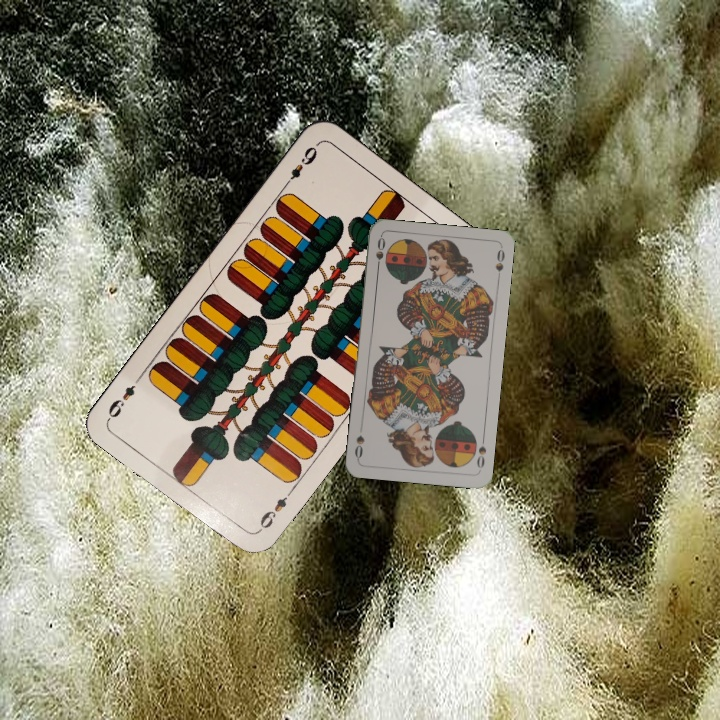E9: (254, 485, 296, 535), (279, 142, 320, 190)
SO: (372, 233, 388, 274), (473, 432, 489, 471)
